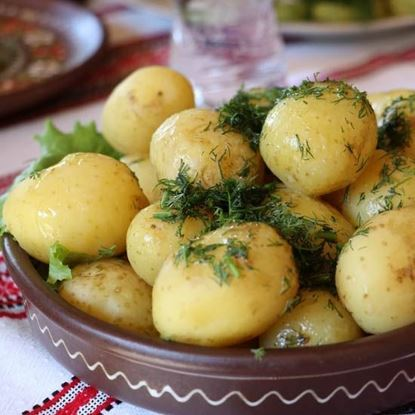boiled potatoes: (25, 89, 415, 340)
